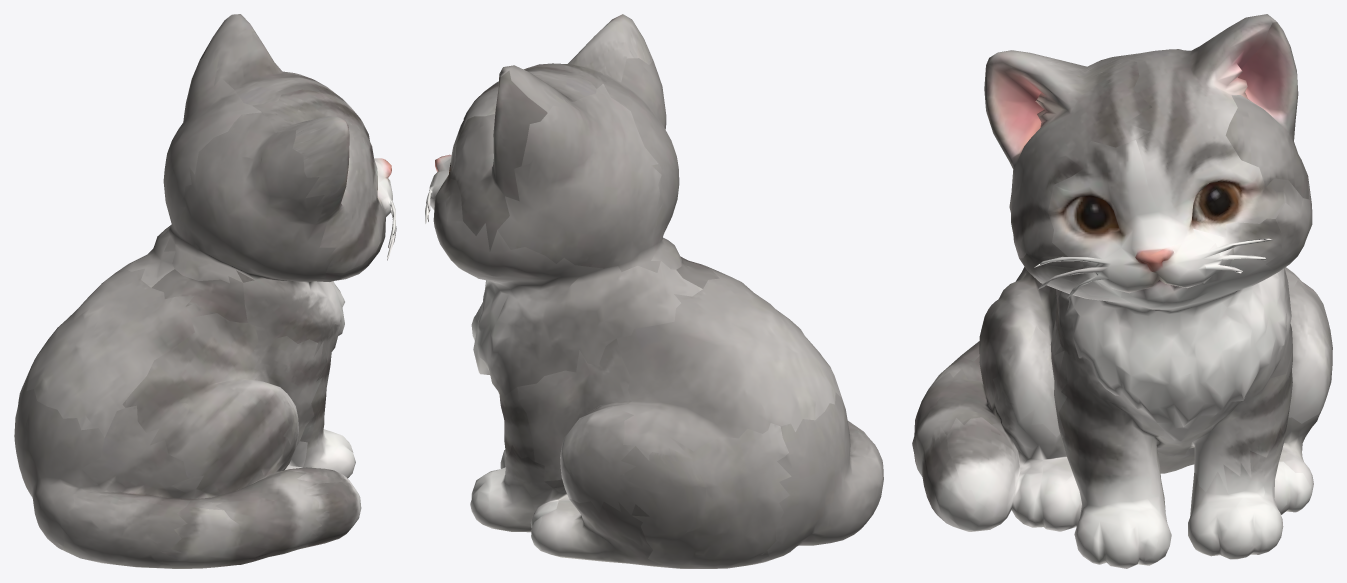
The model's file is kitten.glb.
The picture shows the model from 3 angles, left to right: view 1: azimuth 30°, elevation 25°; view 2: azimuth 150°, elevation 25°; view 3: azimuth 270°, elevation 25°; orthographic projection. The views are drawn at different scales.
Visible parts, largest first — view 1: tripo_node_ede3d0c7-7596-4630-9937-8eff925e5e79; view 2: tripo_node_ede3d0c7-7596-4630-9937-8eff925e5e79; view 3: tripo_node_ede3d0c7-7596-4630-9937-8eff925e5e79.
Part boxes in pixels (x1,y1,x2,y2): tripo_node_ede3d0c7-7596-4630-9937-8eff925e5e79: [14, 14, 396, 568]; tripo_node_ede3d0c7-7596-4630-9937-8eff925e5e79: [425, 14, 883, 568]; tripo_node_ede3d0c7-7596-4630-9937-8eff925e5e79: [912, 14, 1332, 568].
Size of the model in its own units: 0.9165 by 1 by 0.7287.
1 material, 1 textured.
